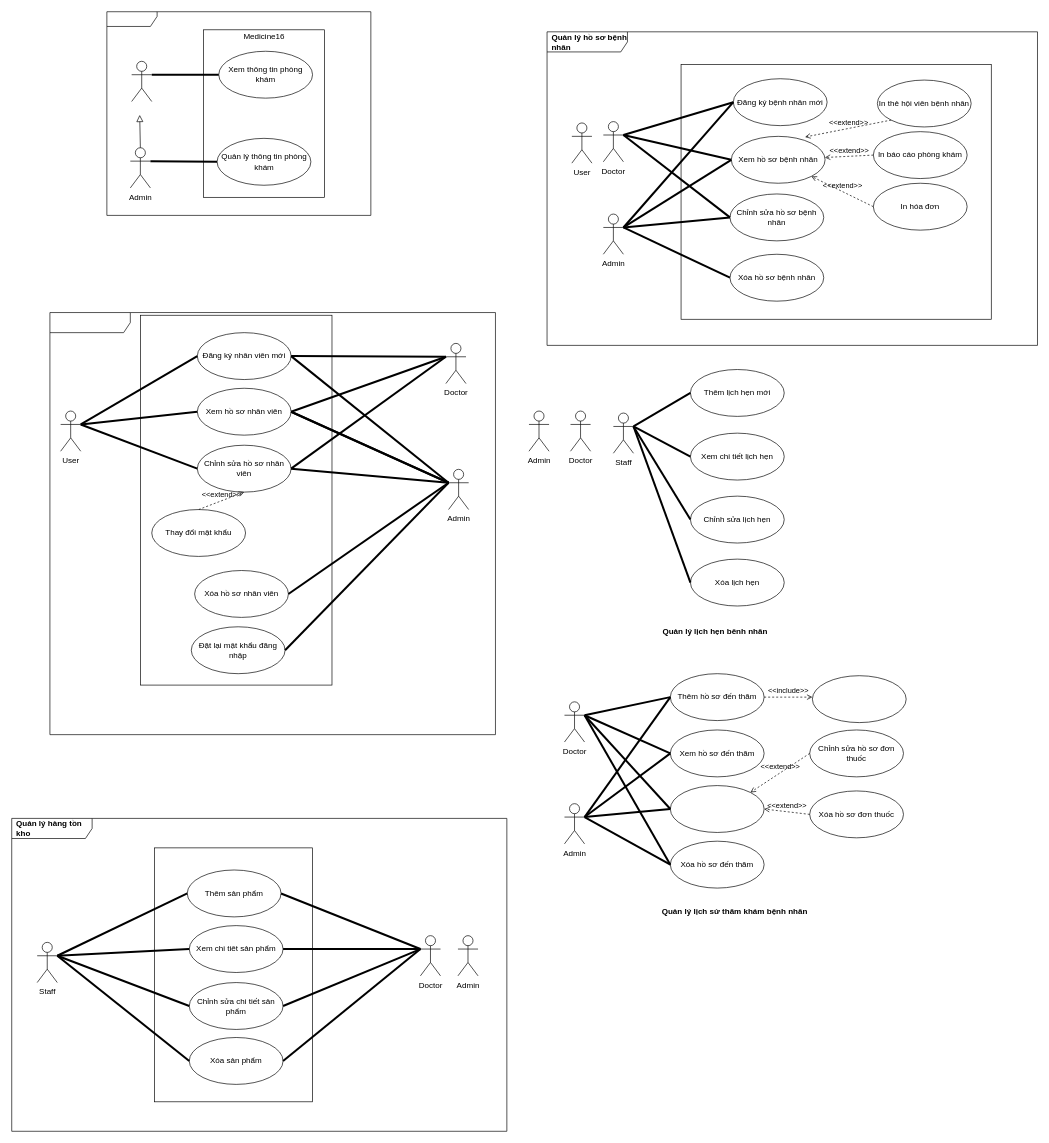
Some shapes in this 1049 by 1143 pixel diagram are drawn without their labels. Each missing label, with the box of its shape:
Biểu đồ ca: (106, 11, 371, 215)
Chỉnh sửa hồ sơ đến thăm: (670, 785, 764, 832)
Guest: (131, 61, 152, 102)
Quản lý hồ sơ nhân viên: (49, 312, 495, 735)
Thêm hồ sơ đơn thuốc: (812, 675, 906, 723)
